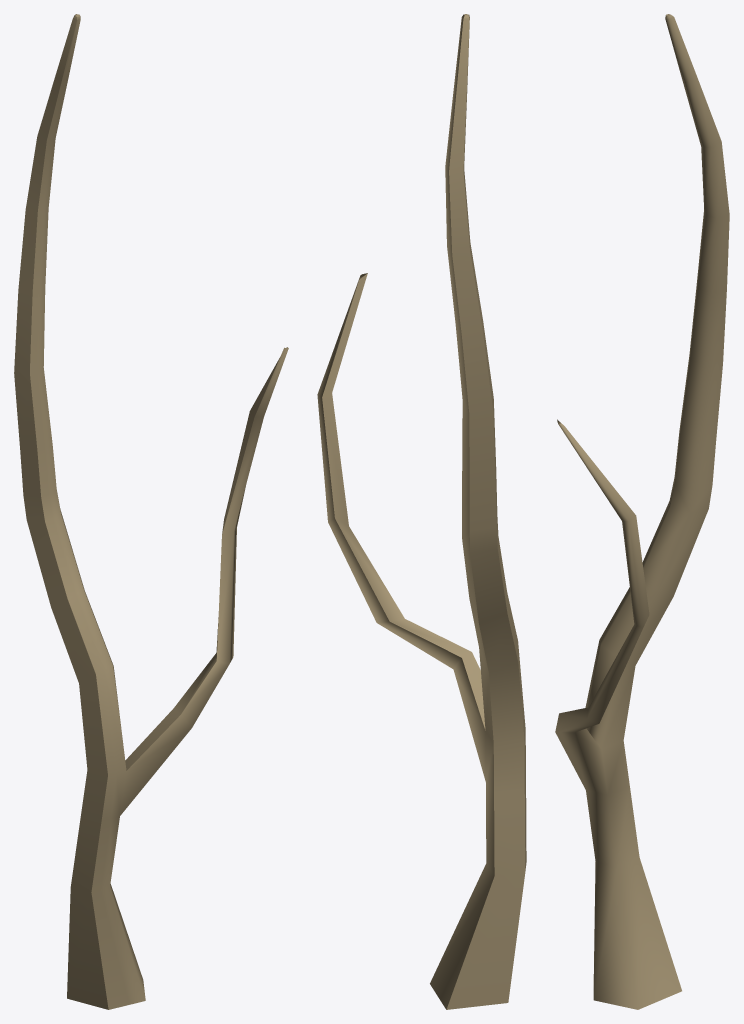
Rendered from Tree_Twist_Small_01.fbx.
3 renders of one model, left to right at view 1: azimuth 30°, elevation 25°; view 2: azimuth 150°, elevation 25°; view 3: azimuth 270°, elevation 25°, orthographic. The views are drawn at different scales.
Parts seen in each view (by area): view 1: Tree_Twist_Small_01; view 2: Tree_Twist_Small_01; view 3: Tree_Twist_Small_01.
Boxes of the visible parts, left/top/right/bottom form: Tree_Twist_Small_01: left=14, top=14, right=288, bottom=1009; Tree_Twist_Small_01: left=317, top=14, right=526, bottom=1009; Tree_Twist_Small_01: left=555, top=14, right=729, bottom=1009.
Size of the model in its own units: 38.02 by 168 by 27.34.
